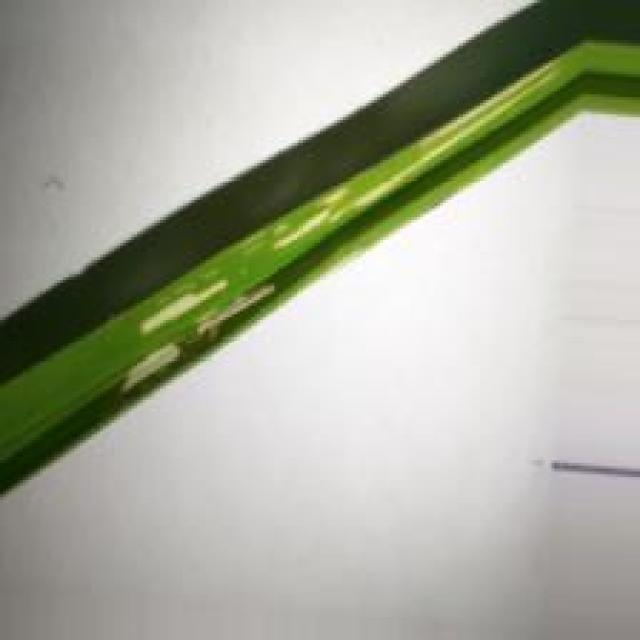Rice_Hispa: (268, 56, 557, 242), (140, 283, 234, 335), (192, 285, 279, 335), (123, 337, 181, 387)
